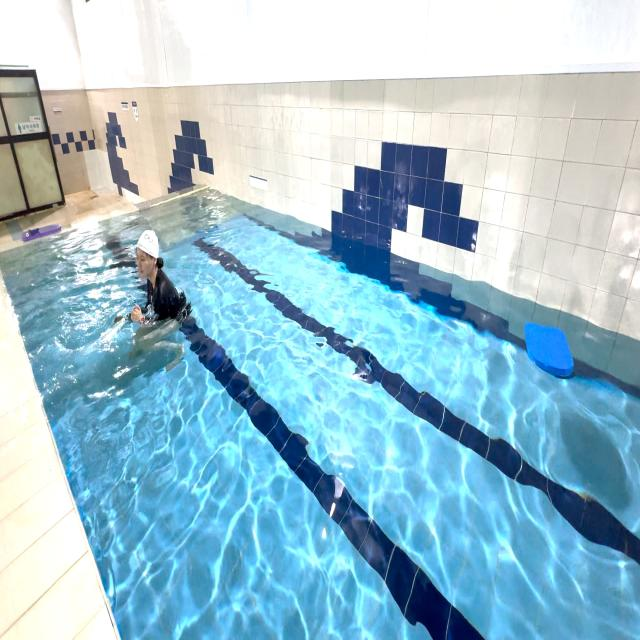Swimming: (107, 215, 211, 390)
